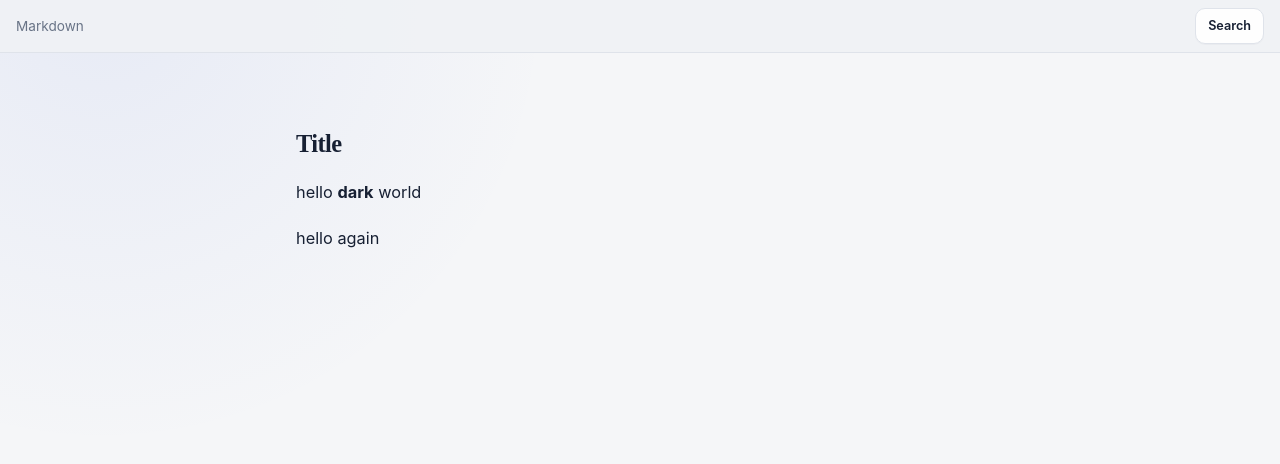
Test: MarkdownReader search › reports when nothing matches
Press f
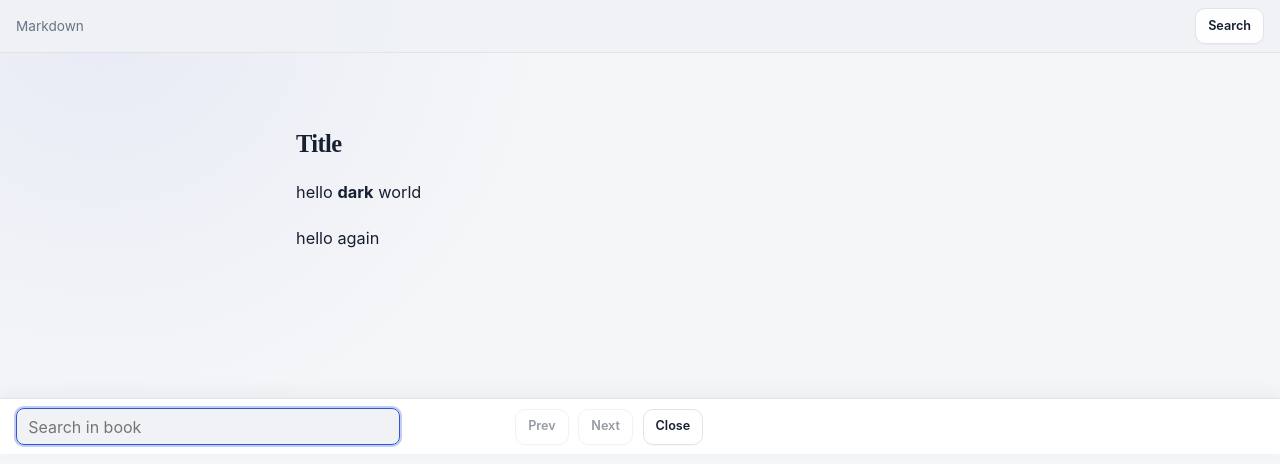
Type "missing" into the search field labelled "Search in book" at (208, 427), box 16,408 -> 400,445
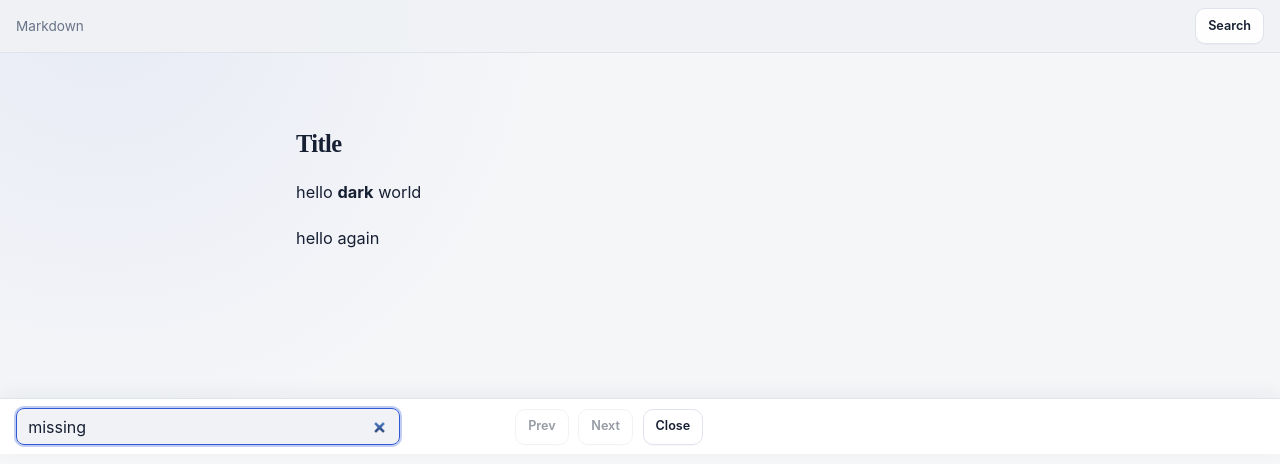
Press Enter in the search field named "Search in book", box 16,408 -> 400,445
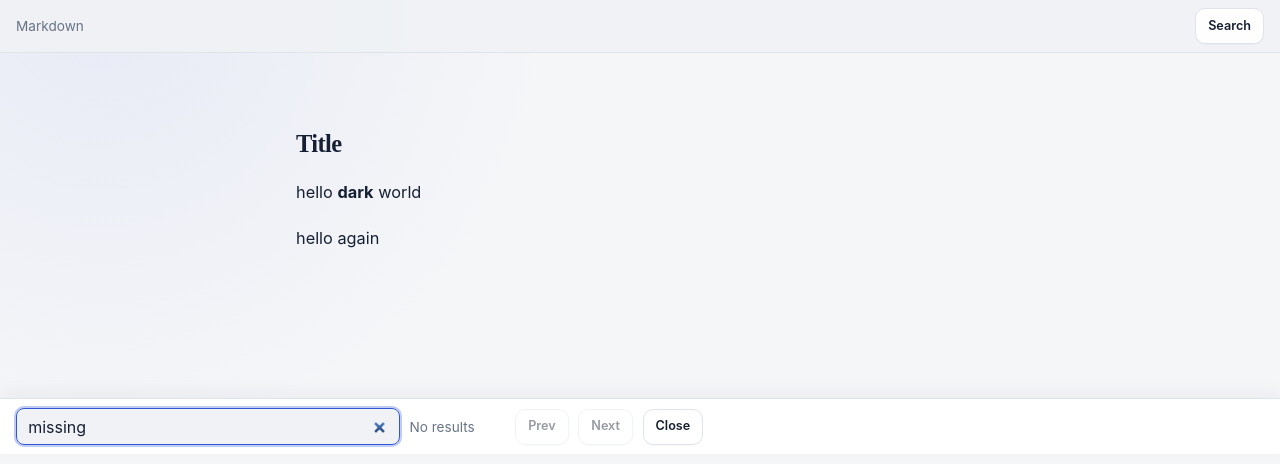
Expected: the text "No results" is shown, 410,418 -> 475,434
